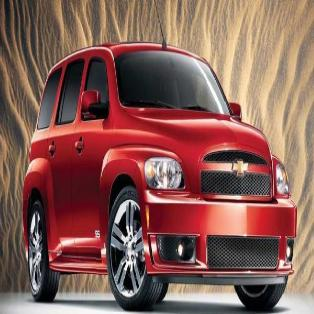Auto: (20, 40, 298, 313)
